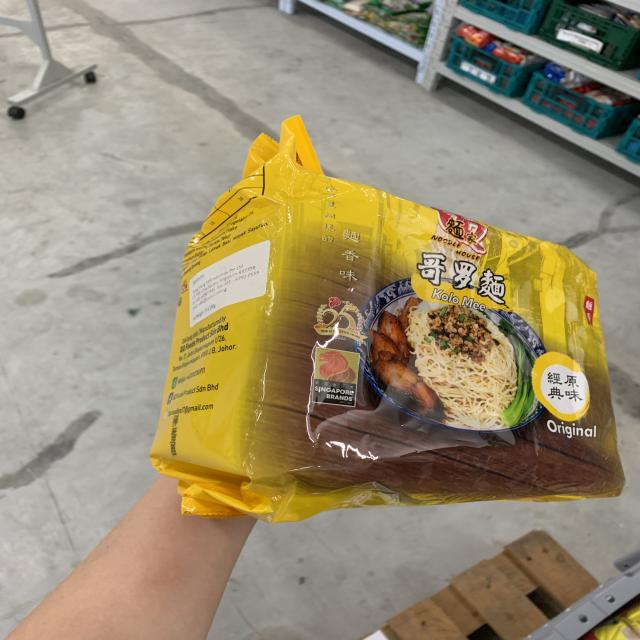object_name: (190, 181, 623, 504)
